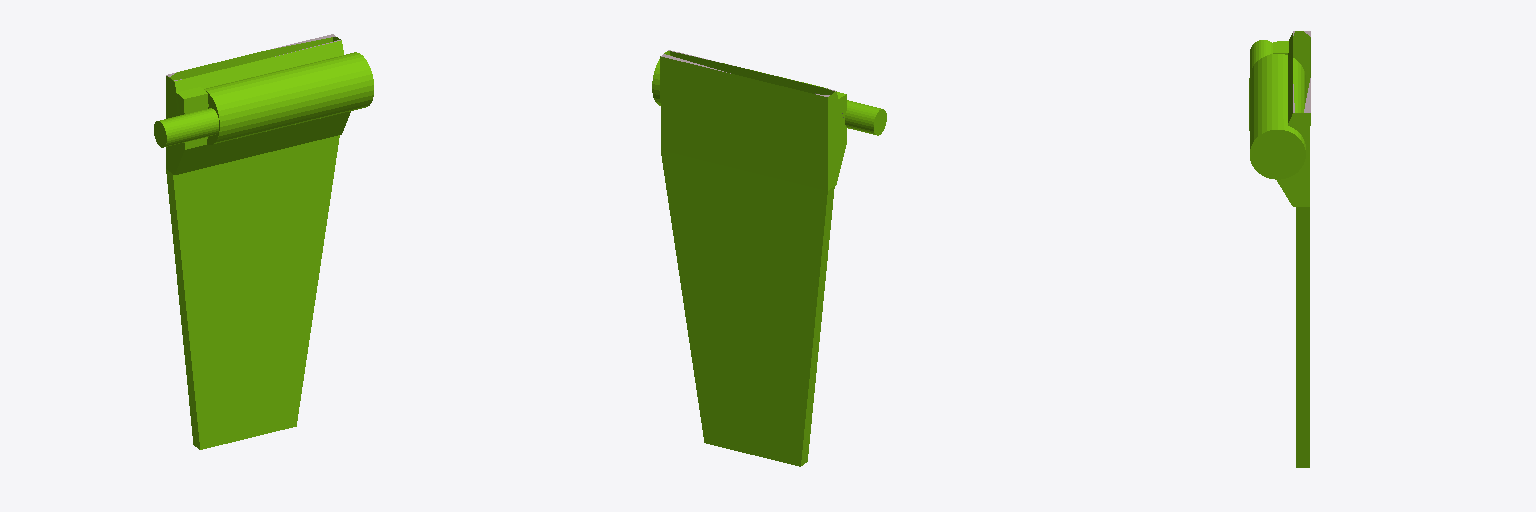
The model's file is x-wing2_airfoil.obj.
3 renders of one model, left to right at view 1: azimuth 30°, elevation 25°; view 2: azimuth 150°, elevation 25°; view 3: azimuth 270°, elevation 25°, orthographic.
Parts seen in each view (by area): view 1: Cube.002; view 2: Cube.002; view 3: Cube.002.
Part boxes in pixels (x1,y1,x2,y2): Cube.002: (154, 34, 373, 449); Cube.002: (652, 50, 886, 466); Cube.002: (1249, 31, 1310, 467).
Size of the model in its own units: 4.32 by 7.48 by 1.1.